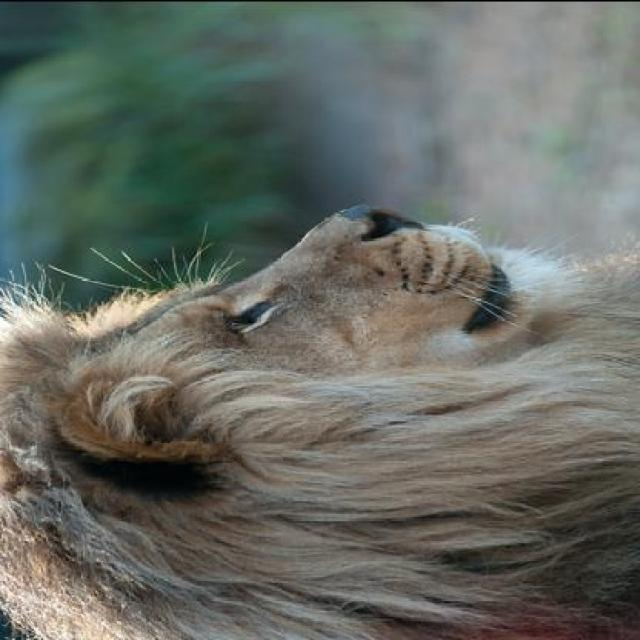Lion: (7, 187, 638, 638)
